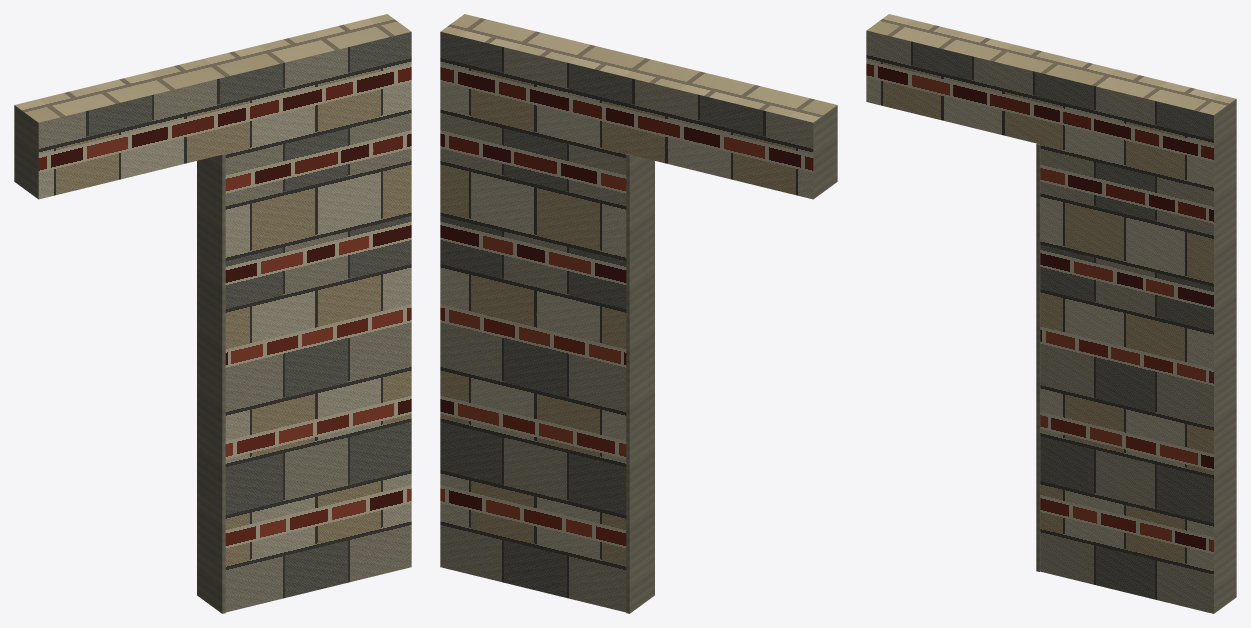
The model's file is wall door slot v5 byzswap open-left.glb.
The picture shows the model from 3 angles, left to right: view 1: azimuth 30°, elevation 25°; view 2: azimuth 150°, elevation 25°; view 3: azimuth 330°, elevation 25°; orthographic projection. The views are drawn at different scales.
Parts seen in each view (by area): view 1: mesh_wall_door_slot_v5_byzswap_open_left, mesh_wall_door_slot_v5_byzswap_open_left_reveal; view 2: mesh_wall_door_slot_v5_byzswap_open_left, mesh_wall_door_slot_v5_byzswap_open_left_reveal; view 3: mesh_wall_door_slot_v5_byzswap_open_left, mesh_wall_door_slot_v5_byzswap_open_left_reveal.
Boxes of the visible parts, x1,y1,x2,y2 form: mesh_wall_door_slot_v5_byzswap_open_left: (14,14,411,612); mesh_wall_door_slot_v5_byzswap_open_left_reveal: (197,154,225,613); mesh_wall_door_slot_v5_byzswap_open_left: (440,14,837,612); mesh_wall_door_slot_v5_byzswap_open_left_reveal: (626,154,654,613); mesh_wall_door_slot_v5_byzswap_open_left: (866,14,1236,613); mesh_wall_door_slot_v5_byzswap_open_left_reveal: (1036,143,1040,571).
Size of the model in its own units: 2 by 2.74 by 0.237.
3 materials, 3 textured.
